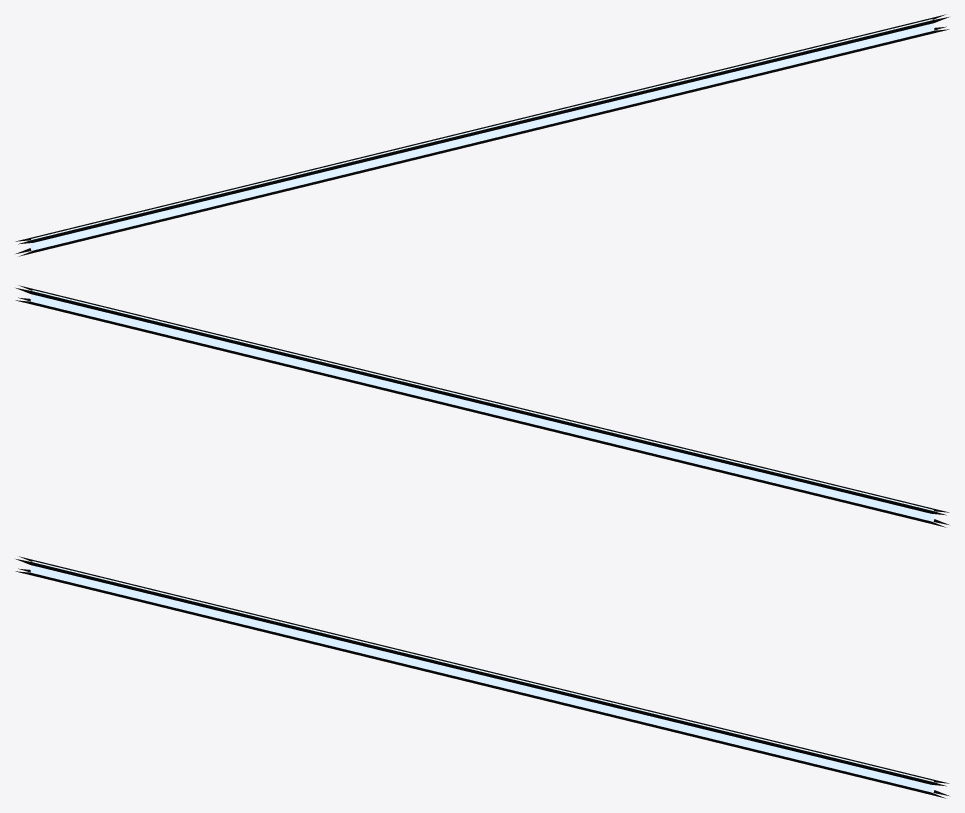
The model's file is lasershot.glb.
3 renders of one model, top to bottom at view 1: azimuth 30°, elevation 25°; view 2: azimuth 150°, elevation 25°; view 3: azimuth 330°, elevation 25°, orthographic.
Visible parts, largest first — view 1: LaserShotIn, LaserShotOut; view 2: LaserShotIn, LaserShotOut; view 3: LaserShotIn, LaserShotOut.
Part boxes in pixels (x1,y1,x2,y2): LaserShotIn: (30,19,934,250); LaserShotOut: (15,14,949,256); LaserShotIn: (30,290,934,521); LaserShotOut: (15,285,949,527); LaserShotIn: (30,561,934,792); LaserShotOut: (15,556,949,798).
Size of the model in its own units: 18.86 by 0.244 by 0.1206.
